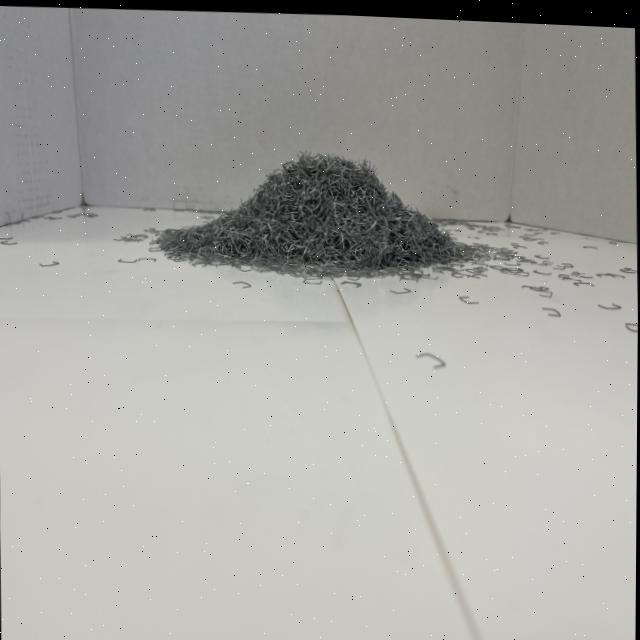staples: (150, 138, 465, 283)
